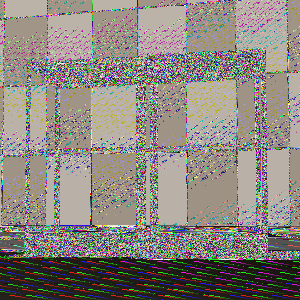Rack: (24, 42, 270, 257)
